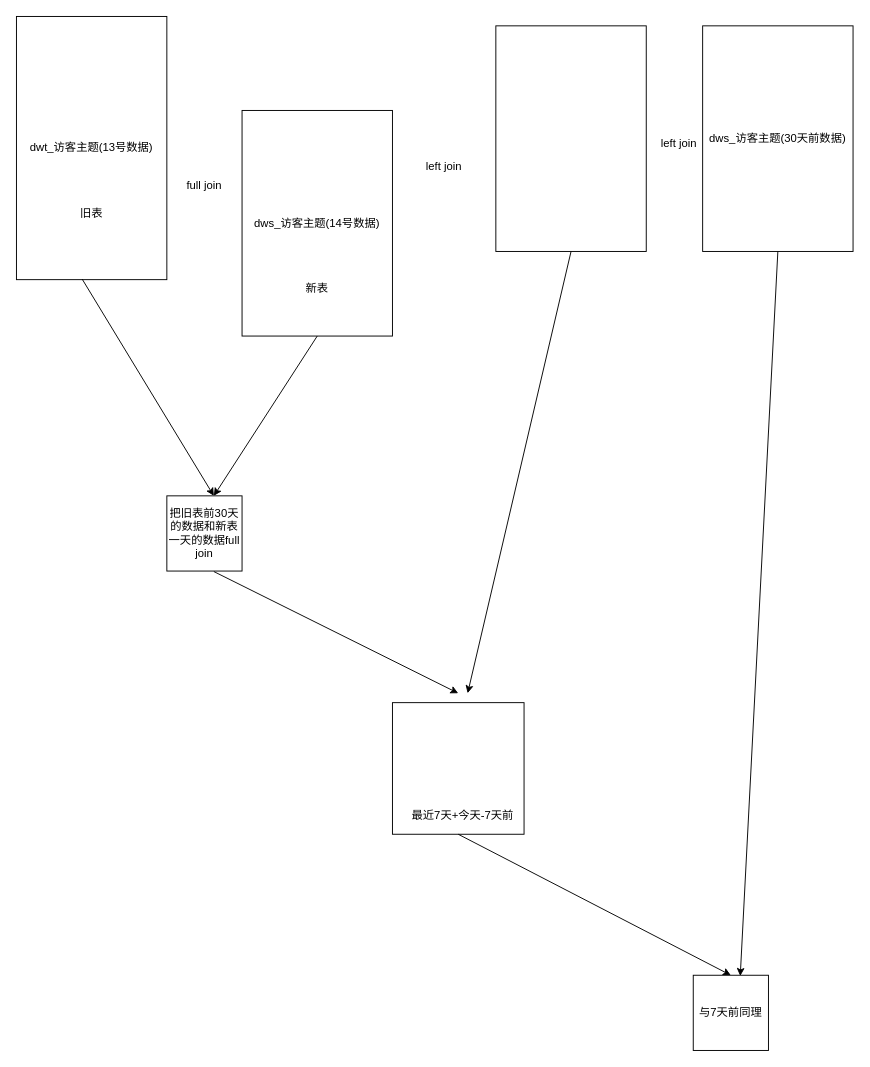
Image size: 870x1067. Some labels were removed from this diagram. Here are the shapes that lost their labels. From the top down, the box of each, then its label:
(495, 25, 646, 251): dws_访客主题(7天前数据)
(392, 702, 524, 834): 把新的数据left join 7天前的每日数据,减去7天前的数据,可以求出最新的7天数据
